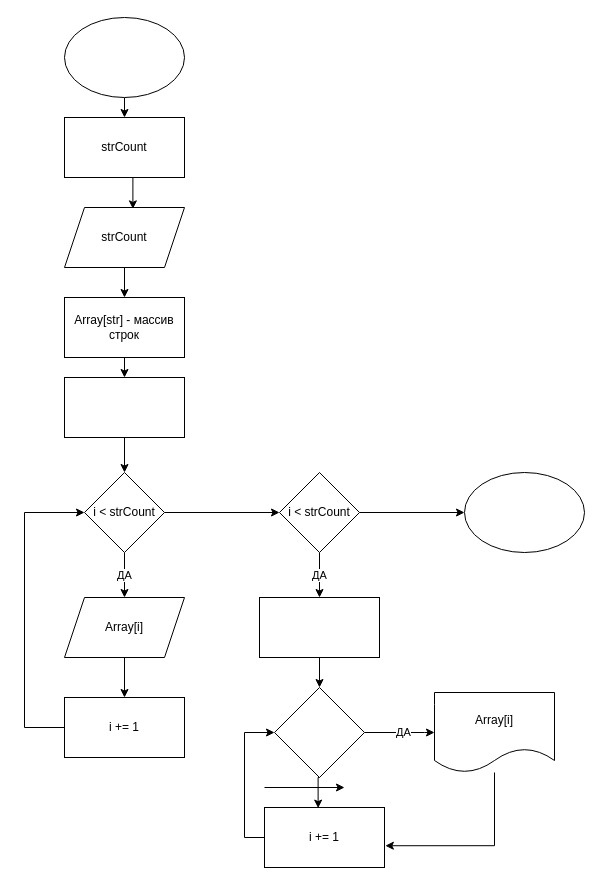
This 602x885 diagram has some shape labels left out. Each missing label, with the centre of its shape:
"0 < str.Lenght <= 3" goes at [319,732].
"i = 0" goes at [124,407].
"Start" goes at [124,57].
"str = Array[i]" goes at [319,627].
"Конец" goes at [524,512].
